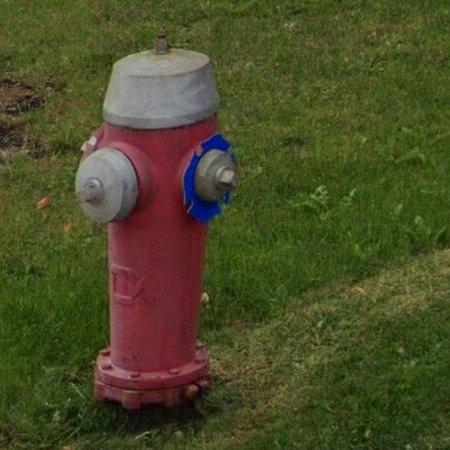a fire hydrant: (75, 36, 237, 411)
